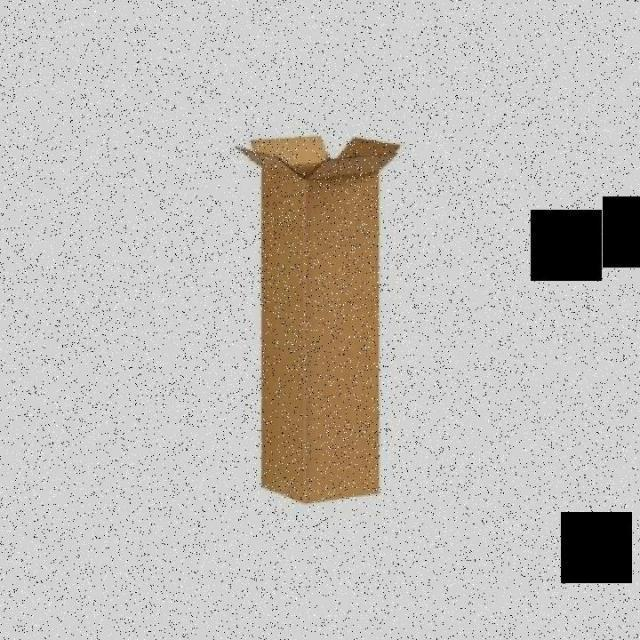box: (227, 112, 418, 516)
